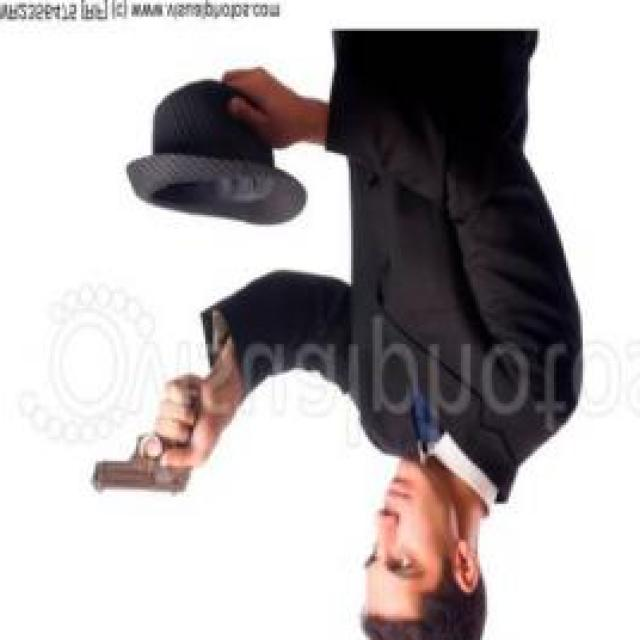pistol: (89, 382, 204, 502)
